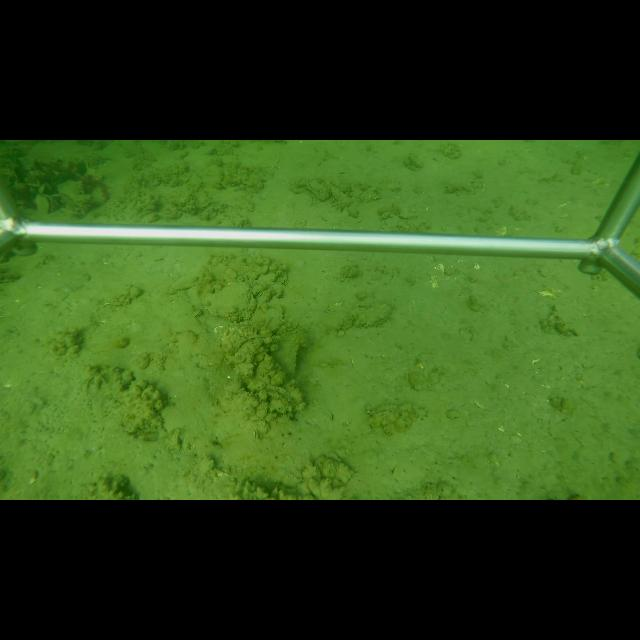Oyster-Closed: (201, 281, 257, 322), (272, 334, 304, 382), (352, 302, 391, 329), (231, 334, 266, 364)
Oyster-Open: (34, 192, 58, 213)
